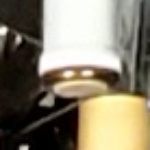bottle: (27, 36, 129, 115)
